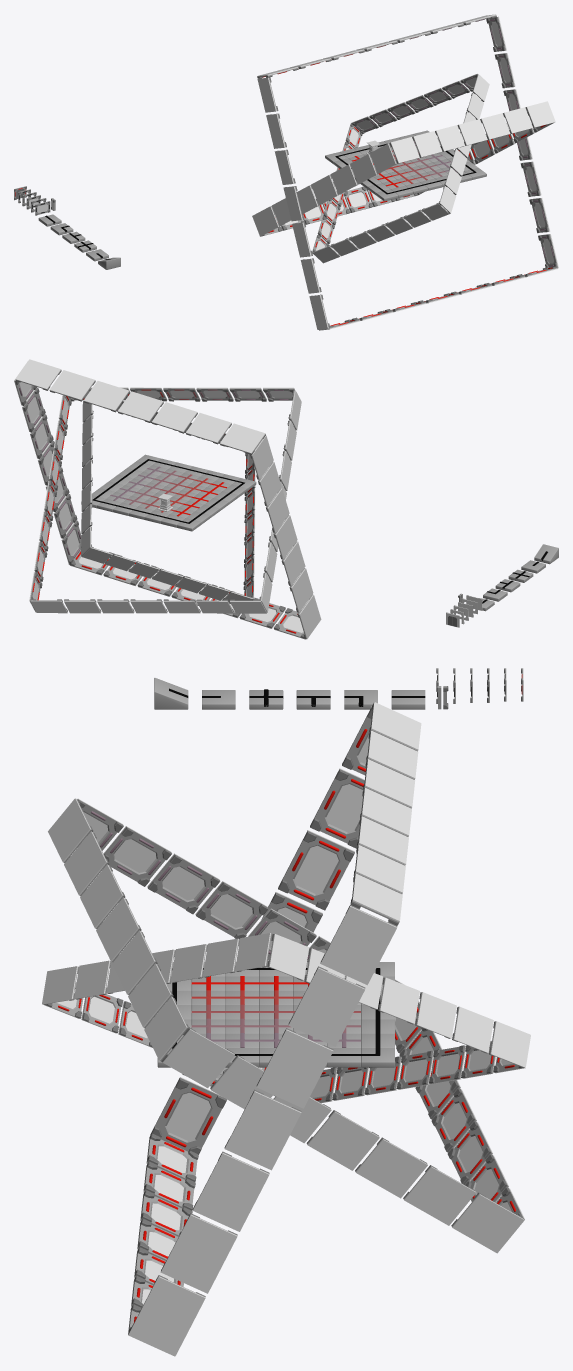
Rendered from CustomRoomPhysics1.fbx.
The picture shows the model from 3 angles, top to bottom: view 1: azimuth 30°, elevation 25°; view 2: azimuth 150°, elevation 25°; view 3: azimuth 270°, elevation 25°; orthographic projection. The views are drawn at different scales.
Parts seen in each view (by area): view 1: Muro Esquina.046, Muro Esquina.052, Muro Esquina.085; view 2: Muro Esquina.052, Muro Esquina.046, Muro Esquina.085, Piso 6; view 3: Muro Esquina.052, Muro Esquina.046, Muro Esquina.085, Piso 6.
Boxes of the visible parts, left/top/right/bottom form: Muro Esquina.046: left=252, top=101, right=555, bottom=236; Muro Esquina.052: left=257, top=14, right=558, bottom=330; Muro Esquina.085: left=312, top=73, right=489, bottom=263; Muro Esquina.052: left=14, top=359, right=321, bottom=639; Muro Esquina.046: left=29, top=387, right=301, bottom=613; Muro Esquina.085: left=81, top=400, right=255, bottom=603; Piso 6: left=534, top=544, right=558, bottom=564; Muro Esquina.052: left=128, top=702, right=421, bottom=1356; Muro Esquina.046: left=48, top=798, right=524, bottom=1253; Muro Esquina.085: left=42, top=933, right=530, bottom=1103; Piso 6: left=154, top=678, right=188, bottom=709.
Bounding box in the file's own units: 3071 × 1530 × 1444.
